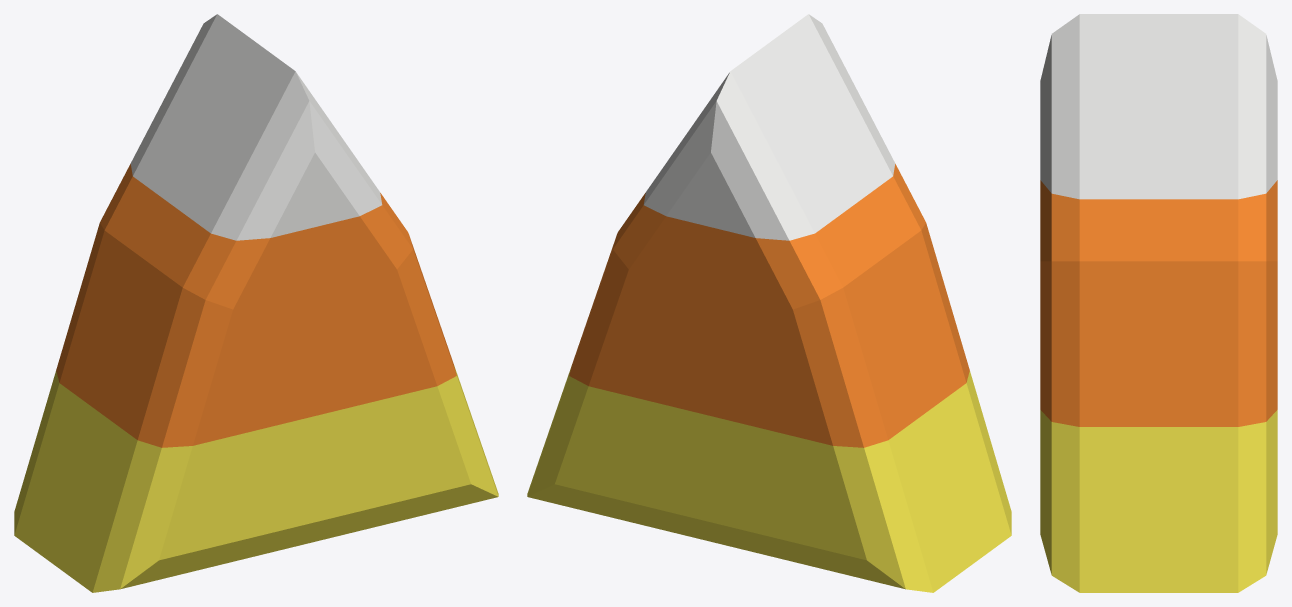
File: CandyCorn.fbx
The picture shows the model from 3 angles, left to right: view 1: azimuth 30°, elevation 25°; view 2: azimuth 150°, elevation 25°; view 3: azimuth 270°, elevation 25°; orthographic projection.
Visible parts, largest first — view 1: CandyCorn; view 2: CandyCorn; view 3: CandyCorn.
Part boxes in pixels (x1,y1,x2,y2): CandyCorn: [14, 14, 498, 592]; CandyCorn: [527, 14, 1011, 592]; CandyCorn: [1040, 14, 1277, 592].
Size of the model in its own units: 1.8 by 2 by 0.9.
1 material, 1 textured.
